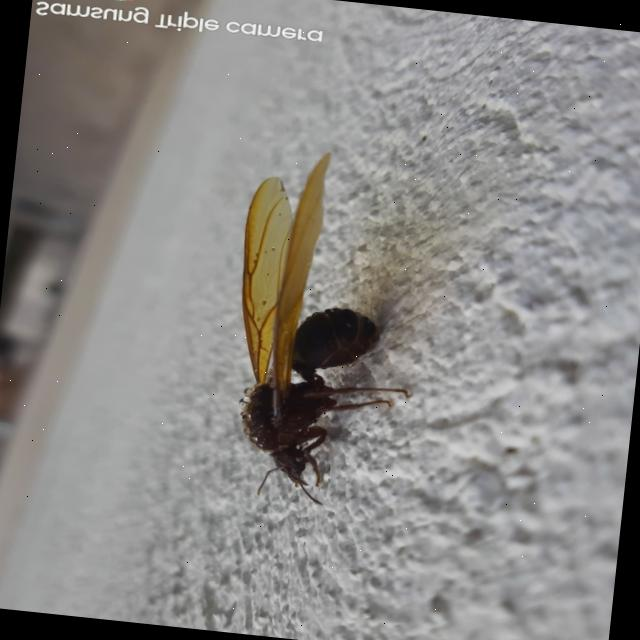Alive-Female-Alate: (215, 145, 437, 512)
